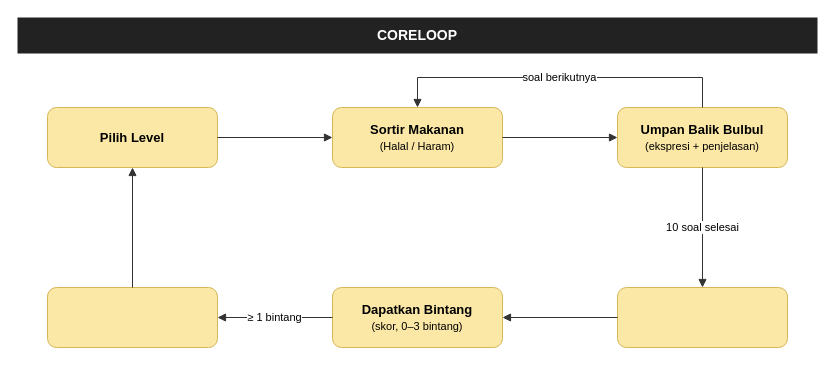
Image size: 834x365. Some labels were removed from this diagram. The box of each missing label's shape, as (x1, y1, x2, y2) in pixels:
Buka Level Baru: (46, 286, 218, 348)
Kuis (pilihan ganda): (616, 286, 788, 348)
